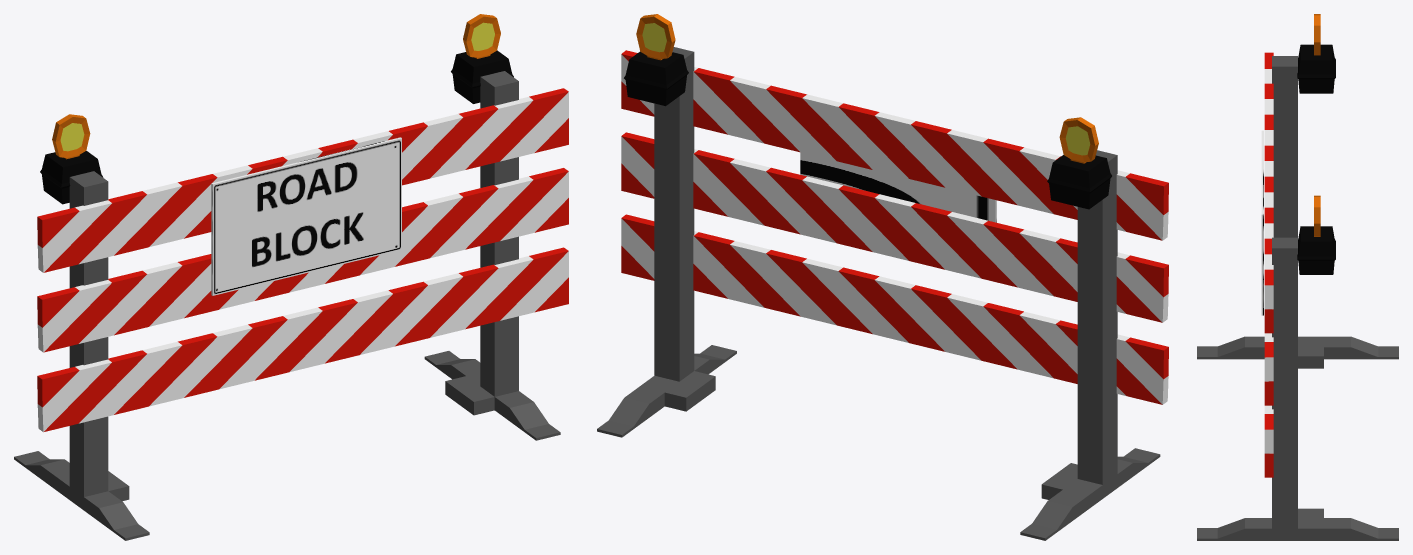
File: Barrier.fbx
3 views of the same model, side by side, from view 1: azimuth 30°, elevation 25°; view 2: azimuth 150°, elevation 25°; view 3: azimuth 270°, elevation 25° (orthographic). The views are drawn at different scales.
Parts seen in each view (by area): view 1: Roadblock; view 2: Roadblock; view 3: Roadblock.
Part boxes in pixels (x1=…): Roadblock: x1=14, y1=14, x2=568, y2=540; Roadblock: x1=597, y1=14, x2=1168, y2=540; Roadblock: x1=1197, y1=14, x2=1398, y2=540.
Bounding box in the file's own units: 75.6 × 51.27 × 27.7.
Materials: 7 (1 with a texture image).
